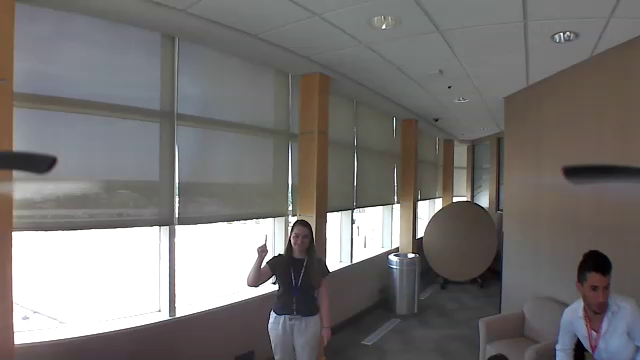up: (255, 230, 270, 261)
